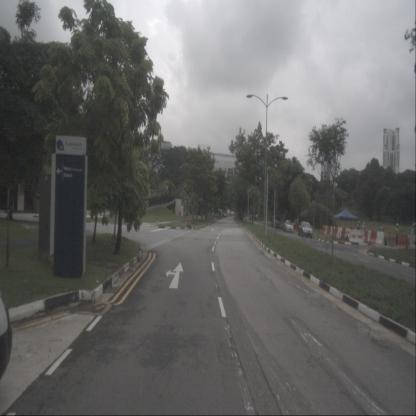vehicle-car: (298, 221, 313, 239), (283, 220, 294, 233)
vehicle-truck: (272, 214, 280, 229)
